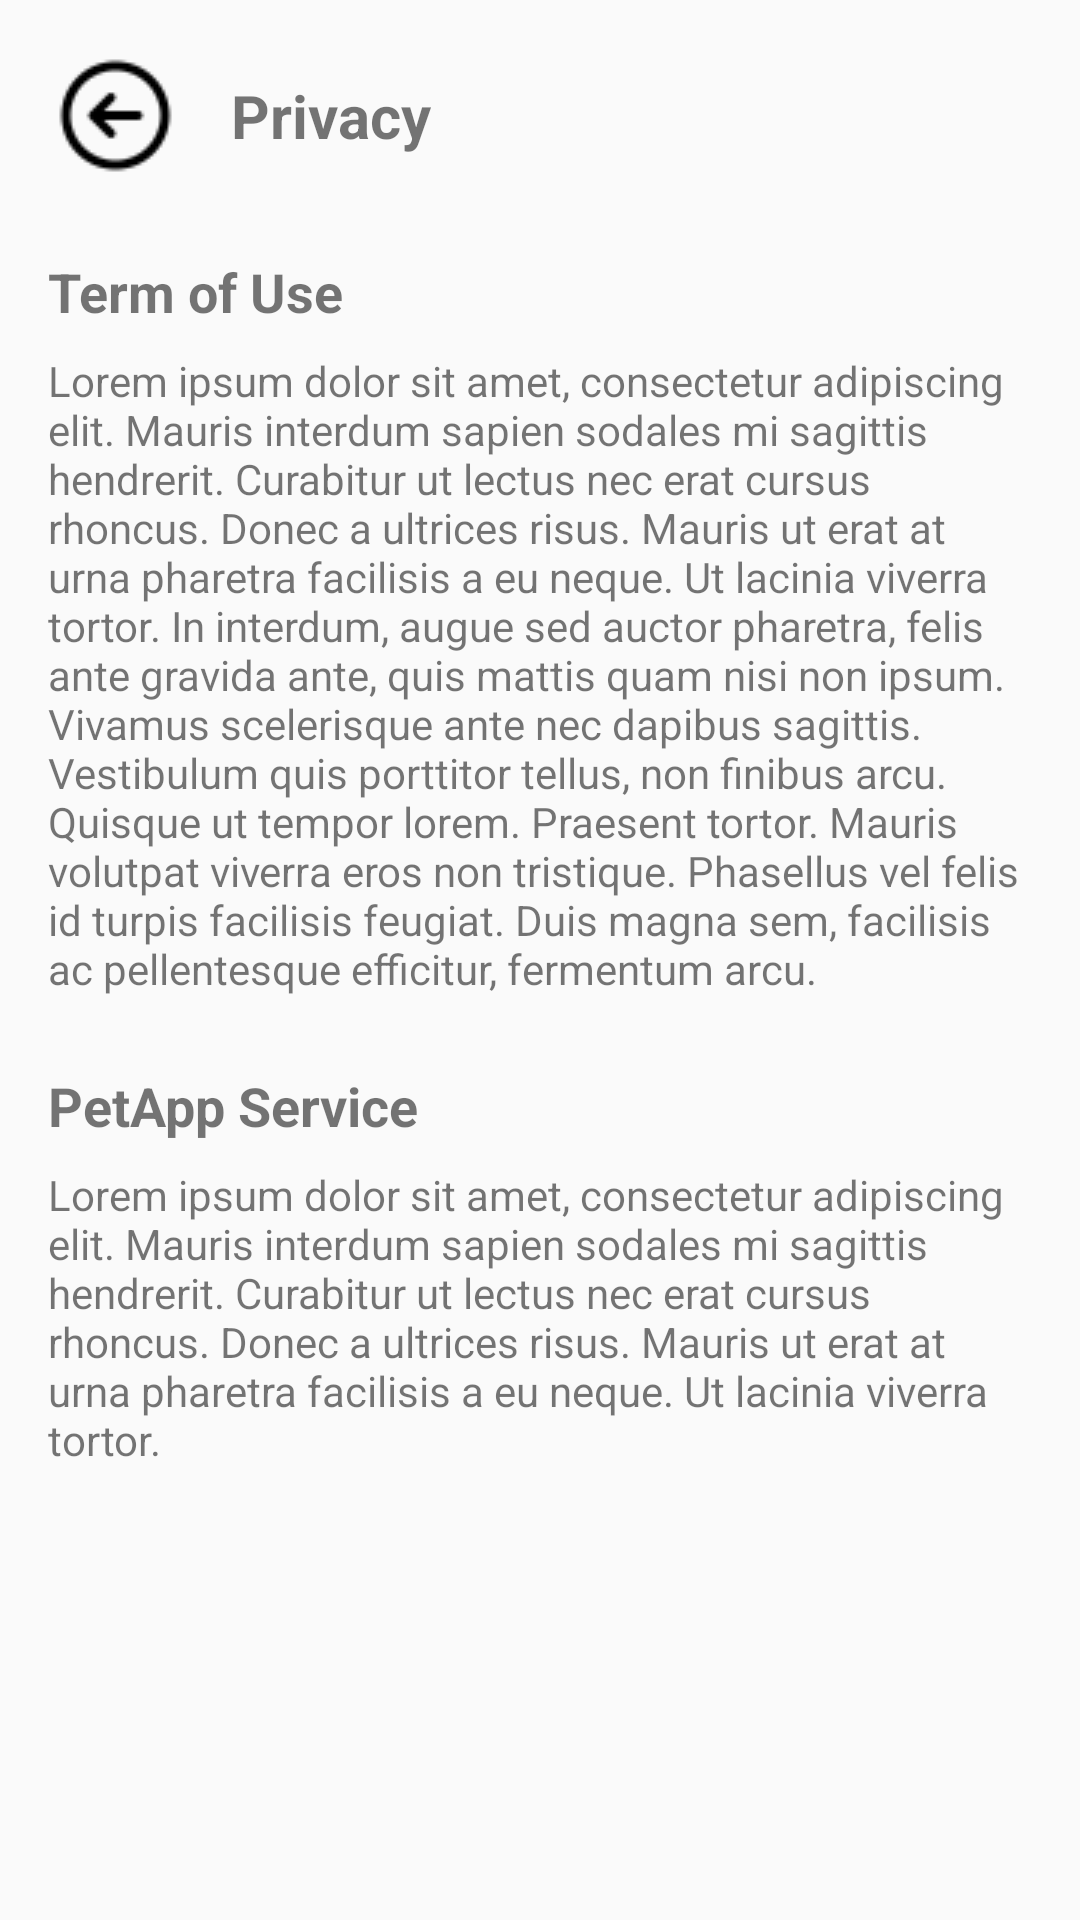

Point at icon controls on the screen. Image size 1080px x 1920px, points as [x,y].
Back: [115,115]
